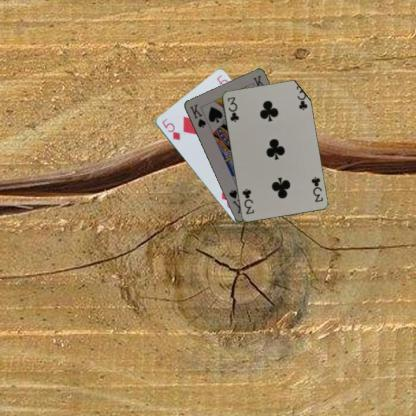3c: (308, 174, 324, 204), (224, 94, 240, 123)
5d: (159, 116, 181, 142)
Ks: (187, 101, 207, 129)
